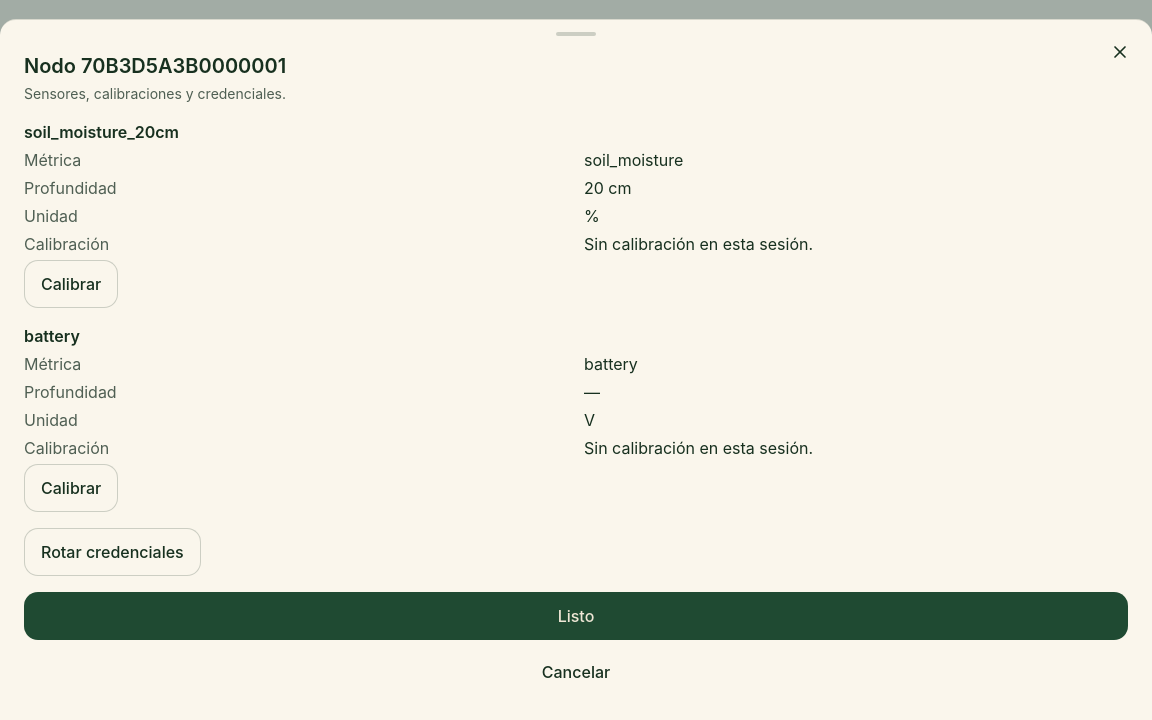
Test: NodeDetailSheet › ignores close requests while rotation is pending and keeps the sheet open until the password is shown
The width and height of the screenshot is (1152, 720).
Expected: the text "soil_moisture_20cm" is shown, [24, 122, 179, 142]
Click the button "Rotar credenciales": coordinates (112, 552) [24, 528, 201, 576]
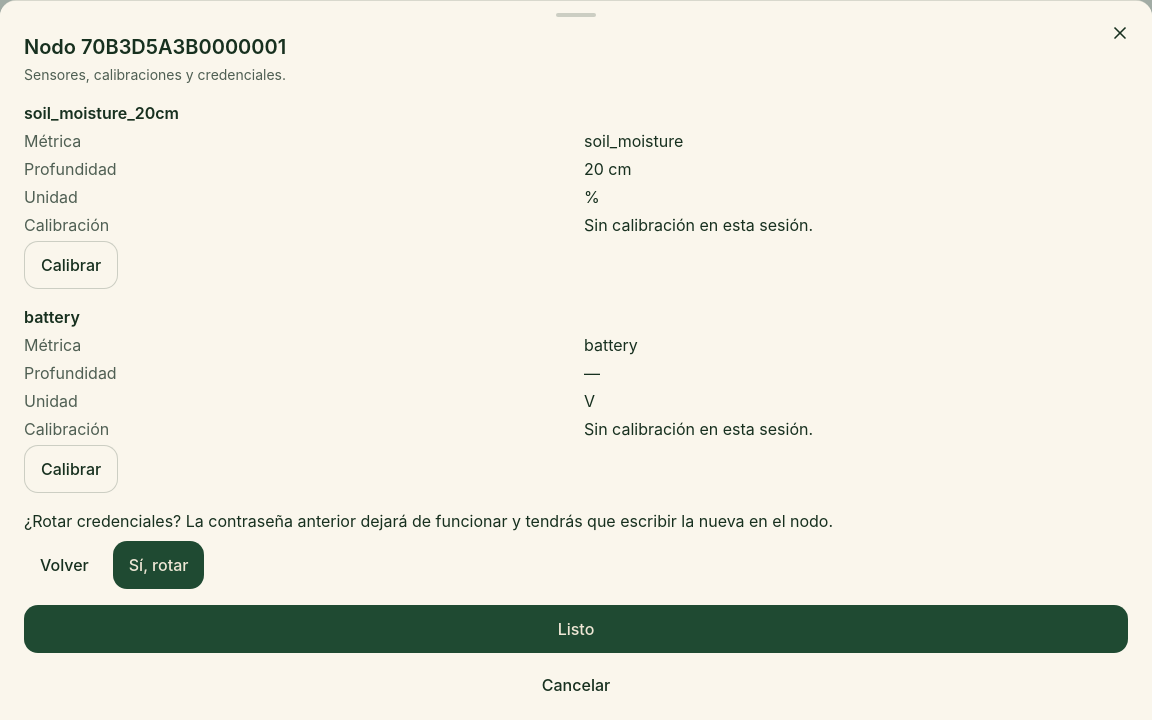
Click the button "Sí, rotar": coordinates (159, 565) [113, 541, 204, 589]
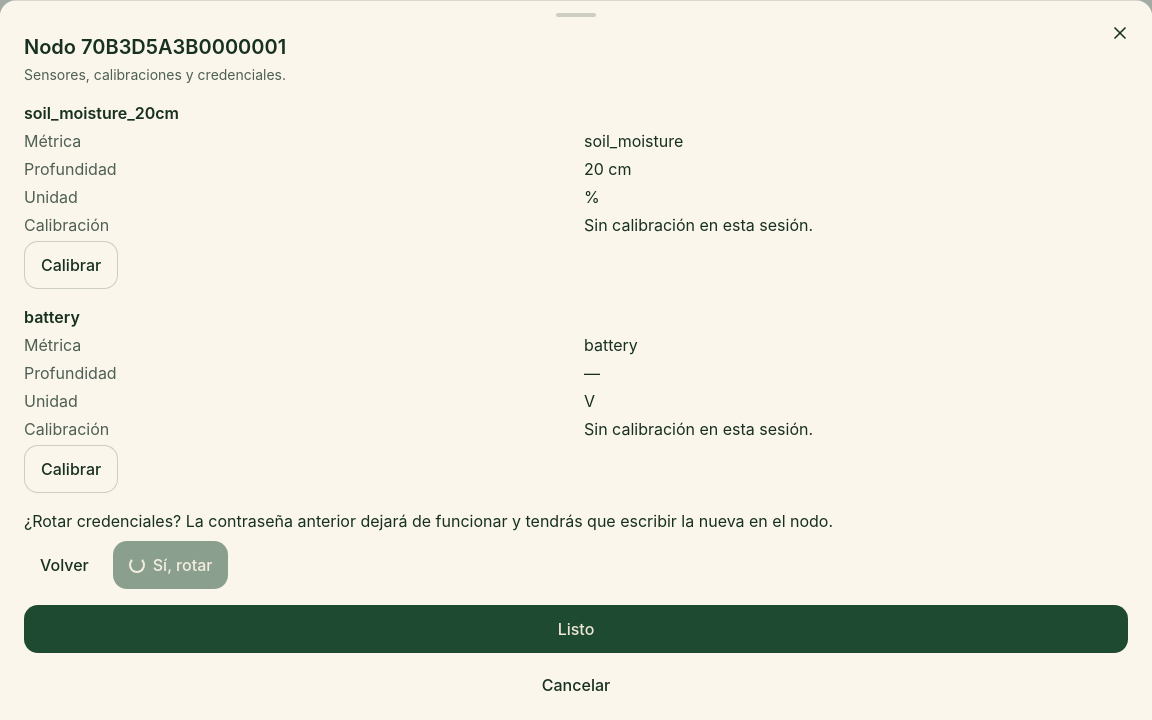
Click the button "Cancelar": coordinates (576, 685) [24, 661, 1128, 709]
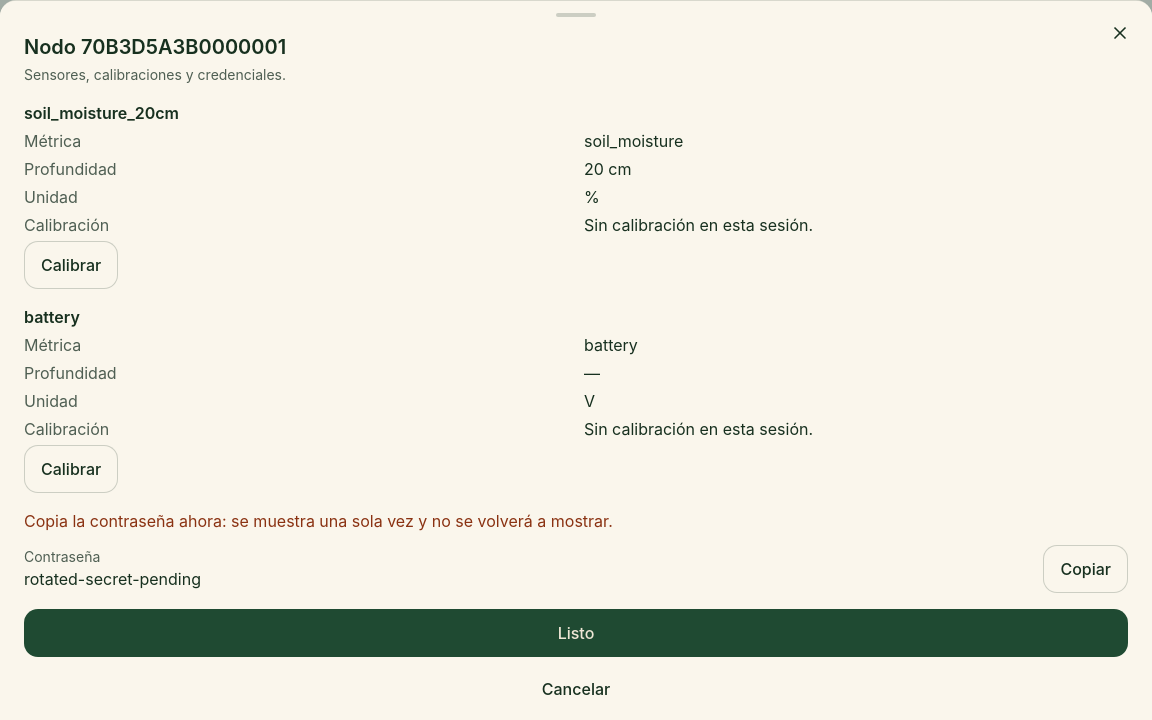
Expected: the text "rotated-secret-pending" is shown, [24, 567, 201, 591]
Expected: the text "no se volverá a mostrar" is shown, [24, 511, 613, 531]
